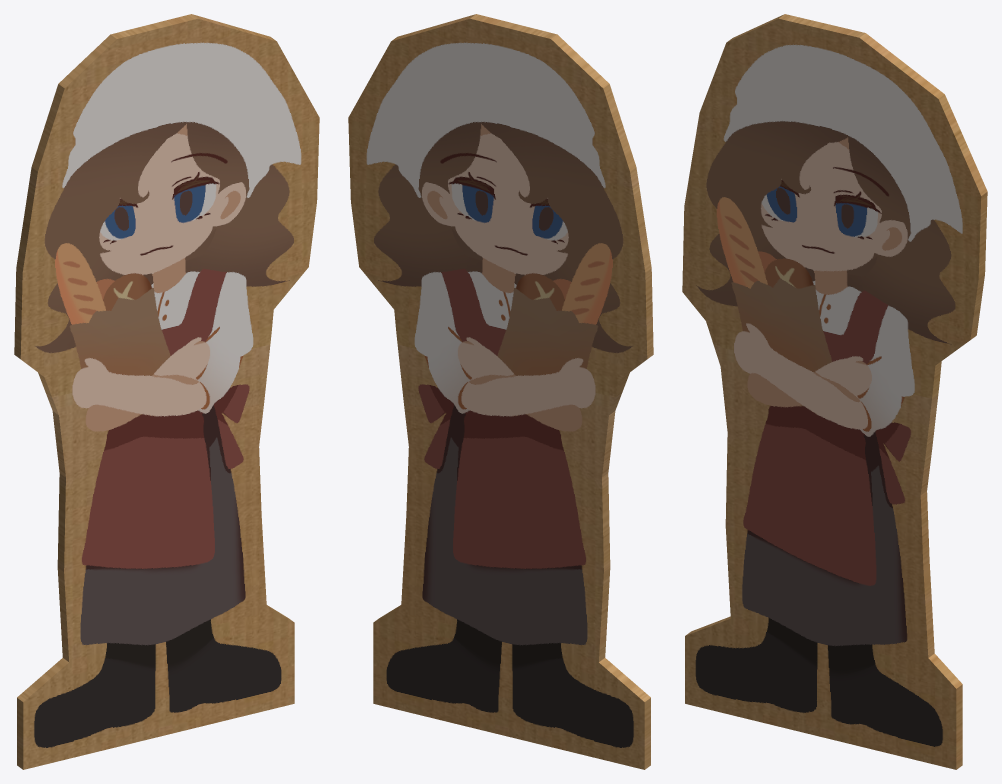
The model's file is NPC_Base_2_Baker.glb.
3 renders of one model, left to right at view 1: azimuth 30°, elevation 25°; view 2: azimuth 150°, elevation 25°; view 3: azimuth 330°, elevation 25°, orthographic.
Visible parts, largest first — view 1: NPC_Base_2_Baker; view 2: NPC_Base_2_Baker; view 3: NPC_Base_2_Baker.
Boxes of the visible parts, left/top/right/bottom form: NPC_Base_2_Baker: left=14, top=14, right=319, bottom=769; NPC_Base_2_Baker: left=348, top=14, right=653, bottom=769; NPC_Base_2_Baker: left=682, top=14, right=987, bottom=769.
Bounding box in the file's own units: 0.8079 × 1.83 × 0.03.
Materials: 1 (1 with a texture image).
